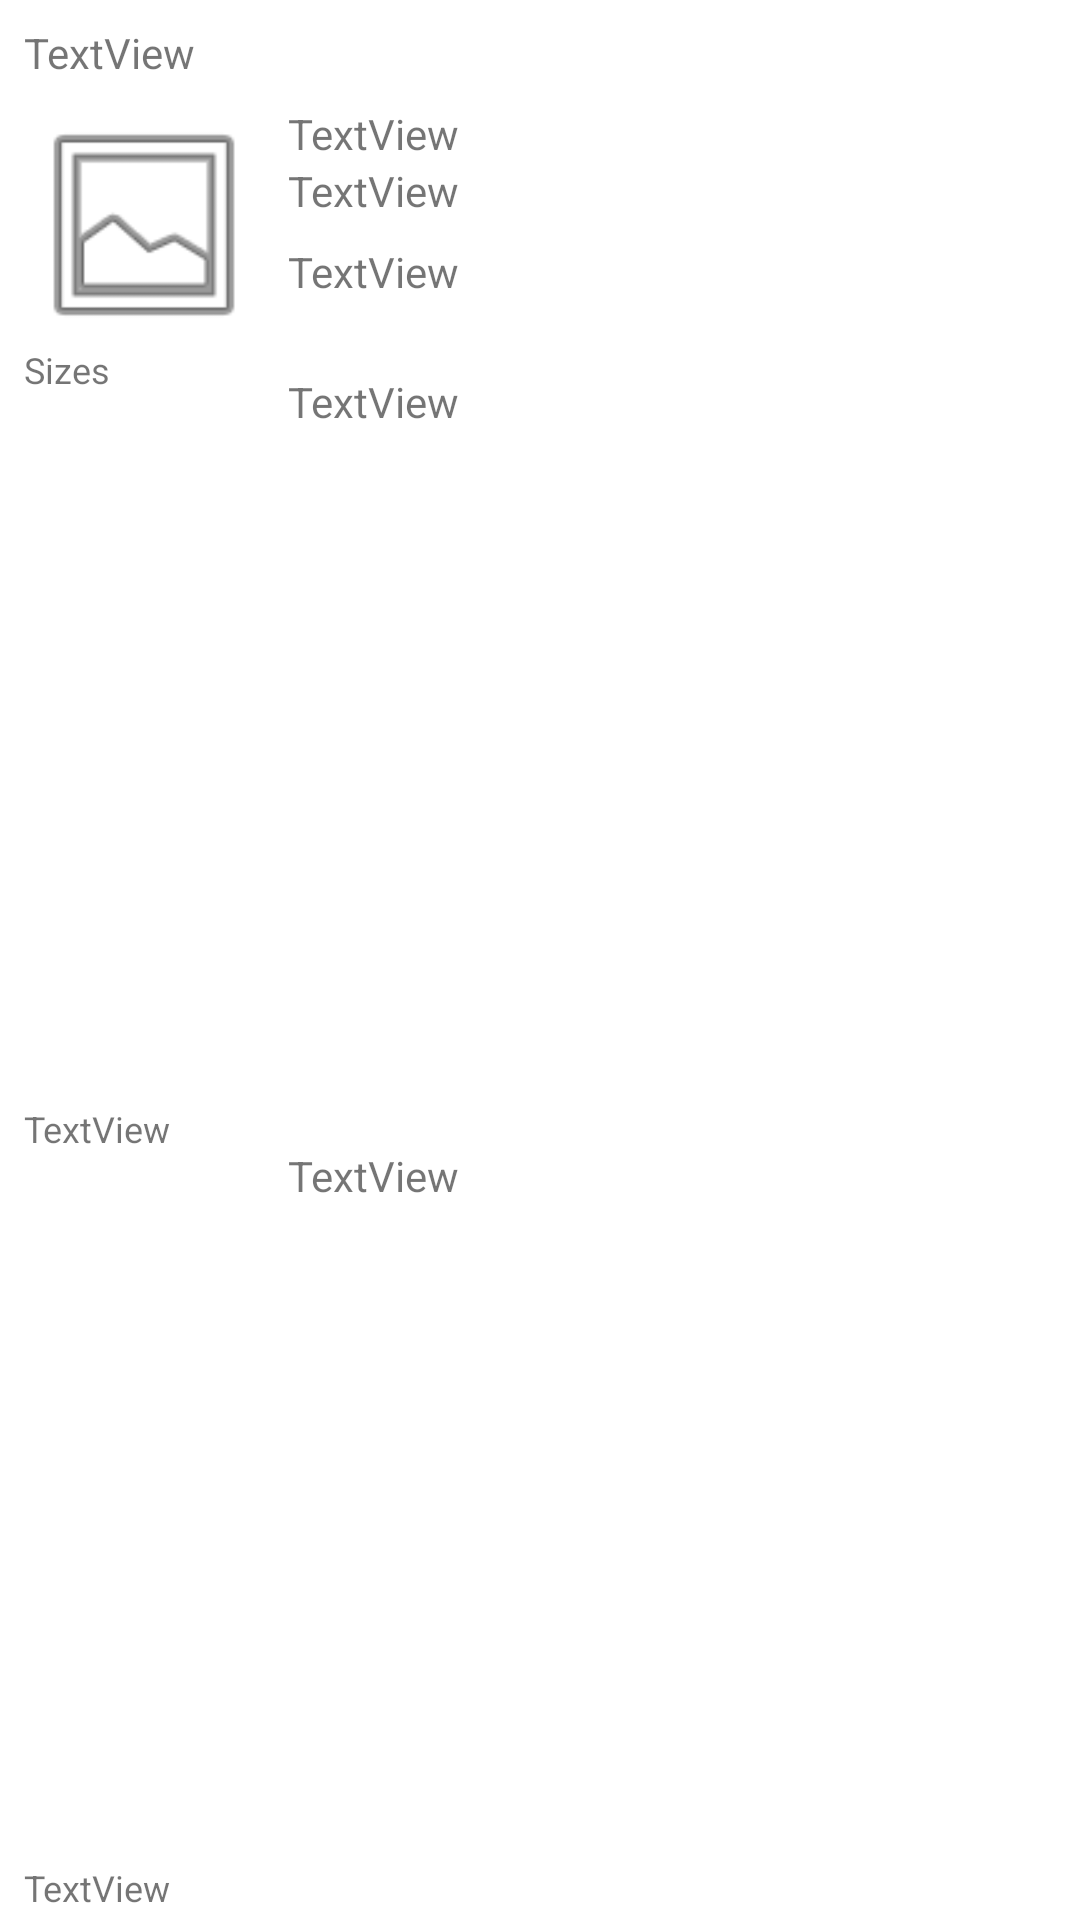

Icon click points for this 1080px x 1920px phone screenshot, format (x=x, y=y):
gallery: (x=144, y=225)
